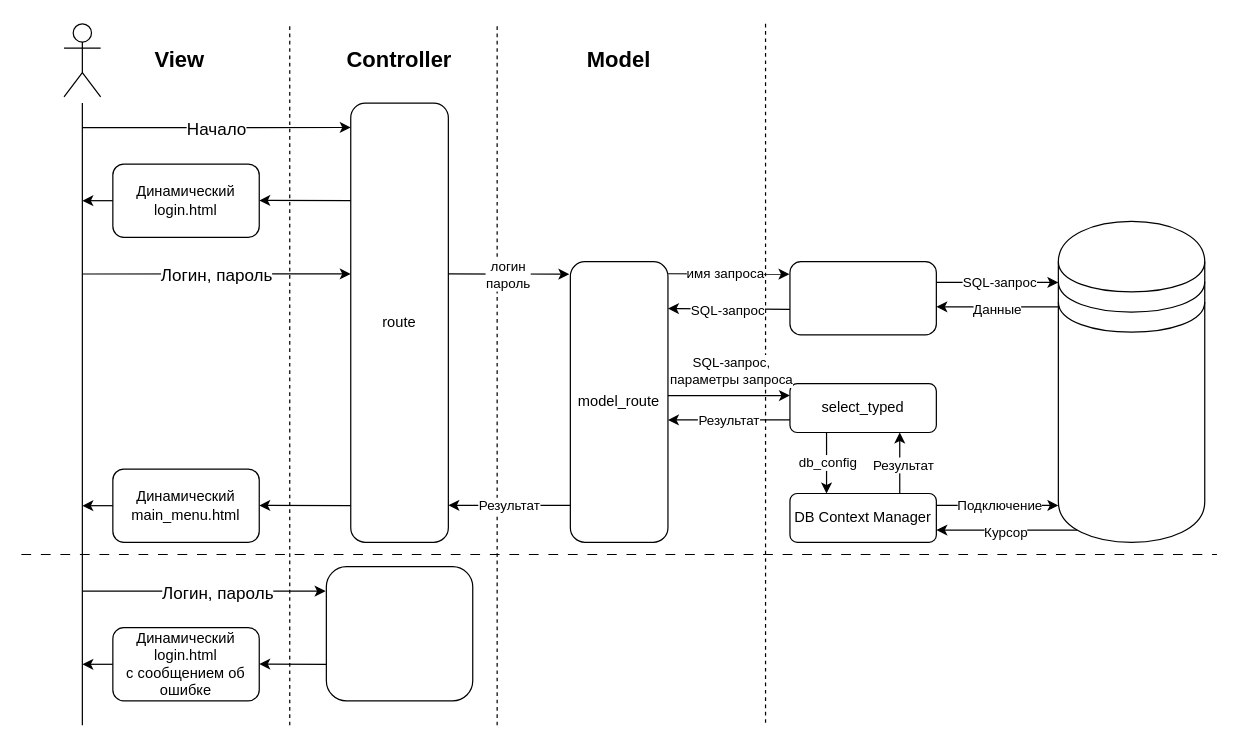
Some shapes in this 1240 by 748 pixel diagram are drawn without their labels. Each missing label, with the centre of its shape:
"SQL Provider" goes at point 862,297.
"База данных" goes at point 1131,381.
"Пользователь не авторизован (неверные данные)" goes at point 399,633.
